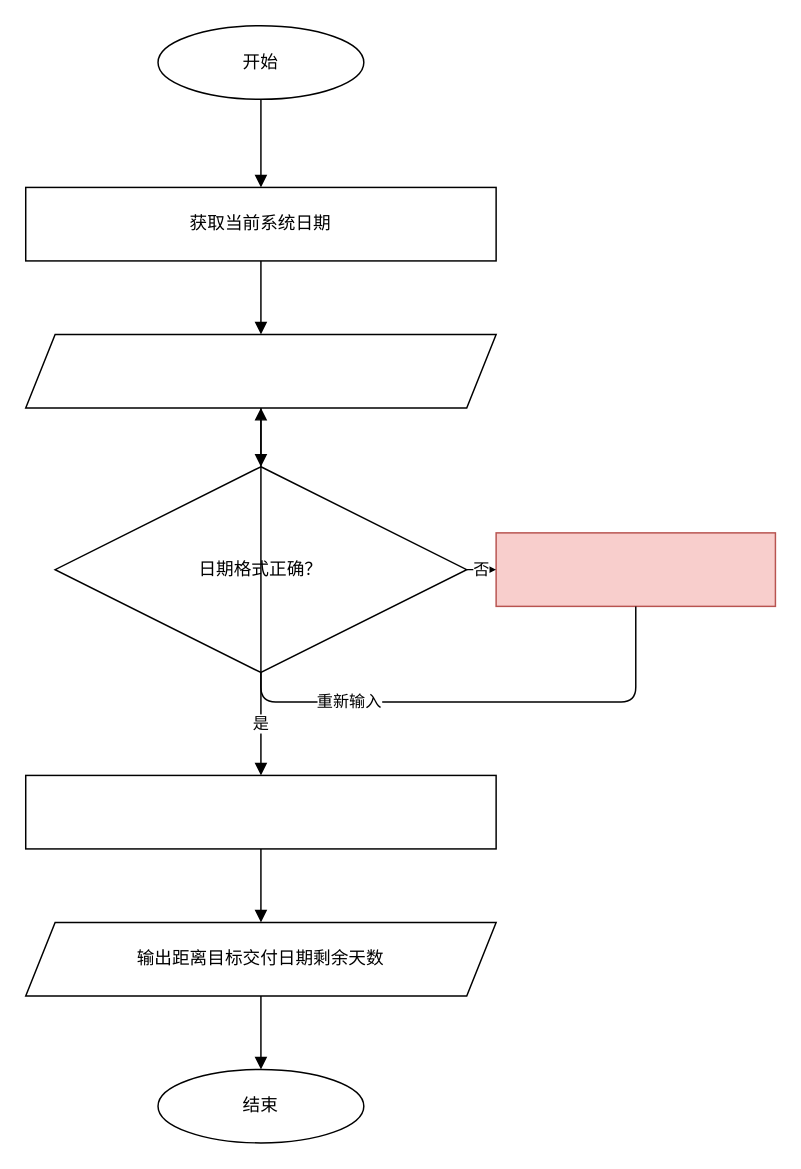
This 801x1169 diagram has some shape labels left out. Each missing label, with the box of its shape:
提示格式错误，重新输入: (495, 531, 775, 606)
计算剩余天数: (24, 774, 496, 849)
输入目标交付日期 (年-月-日): (24, 333, 496, 408)
